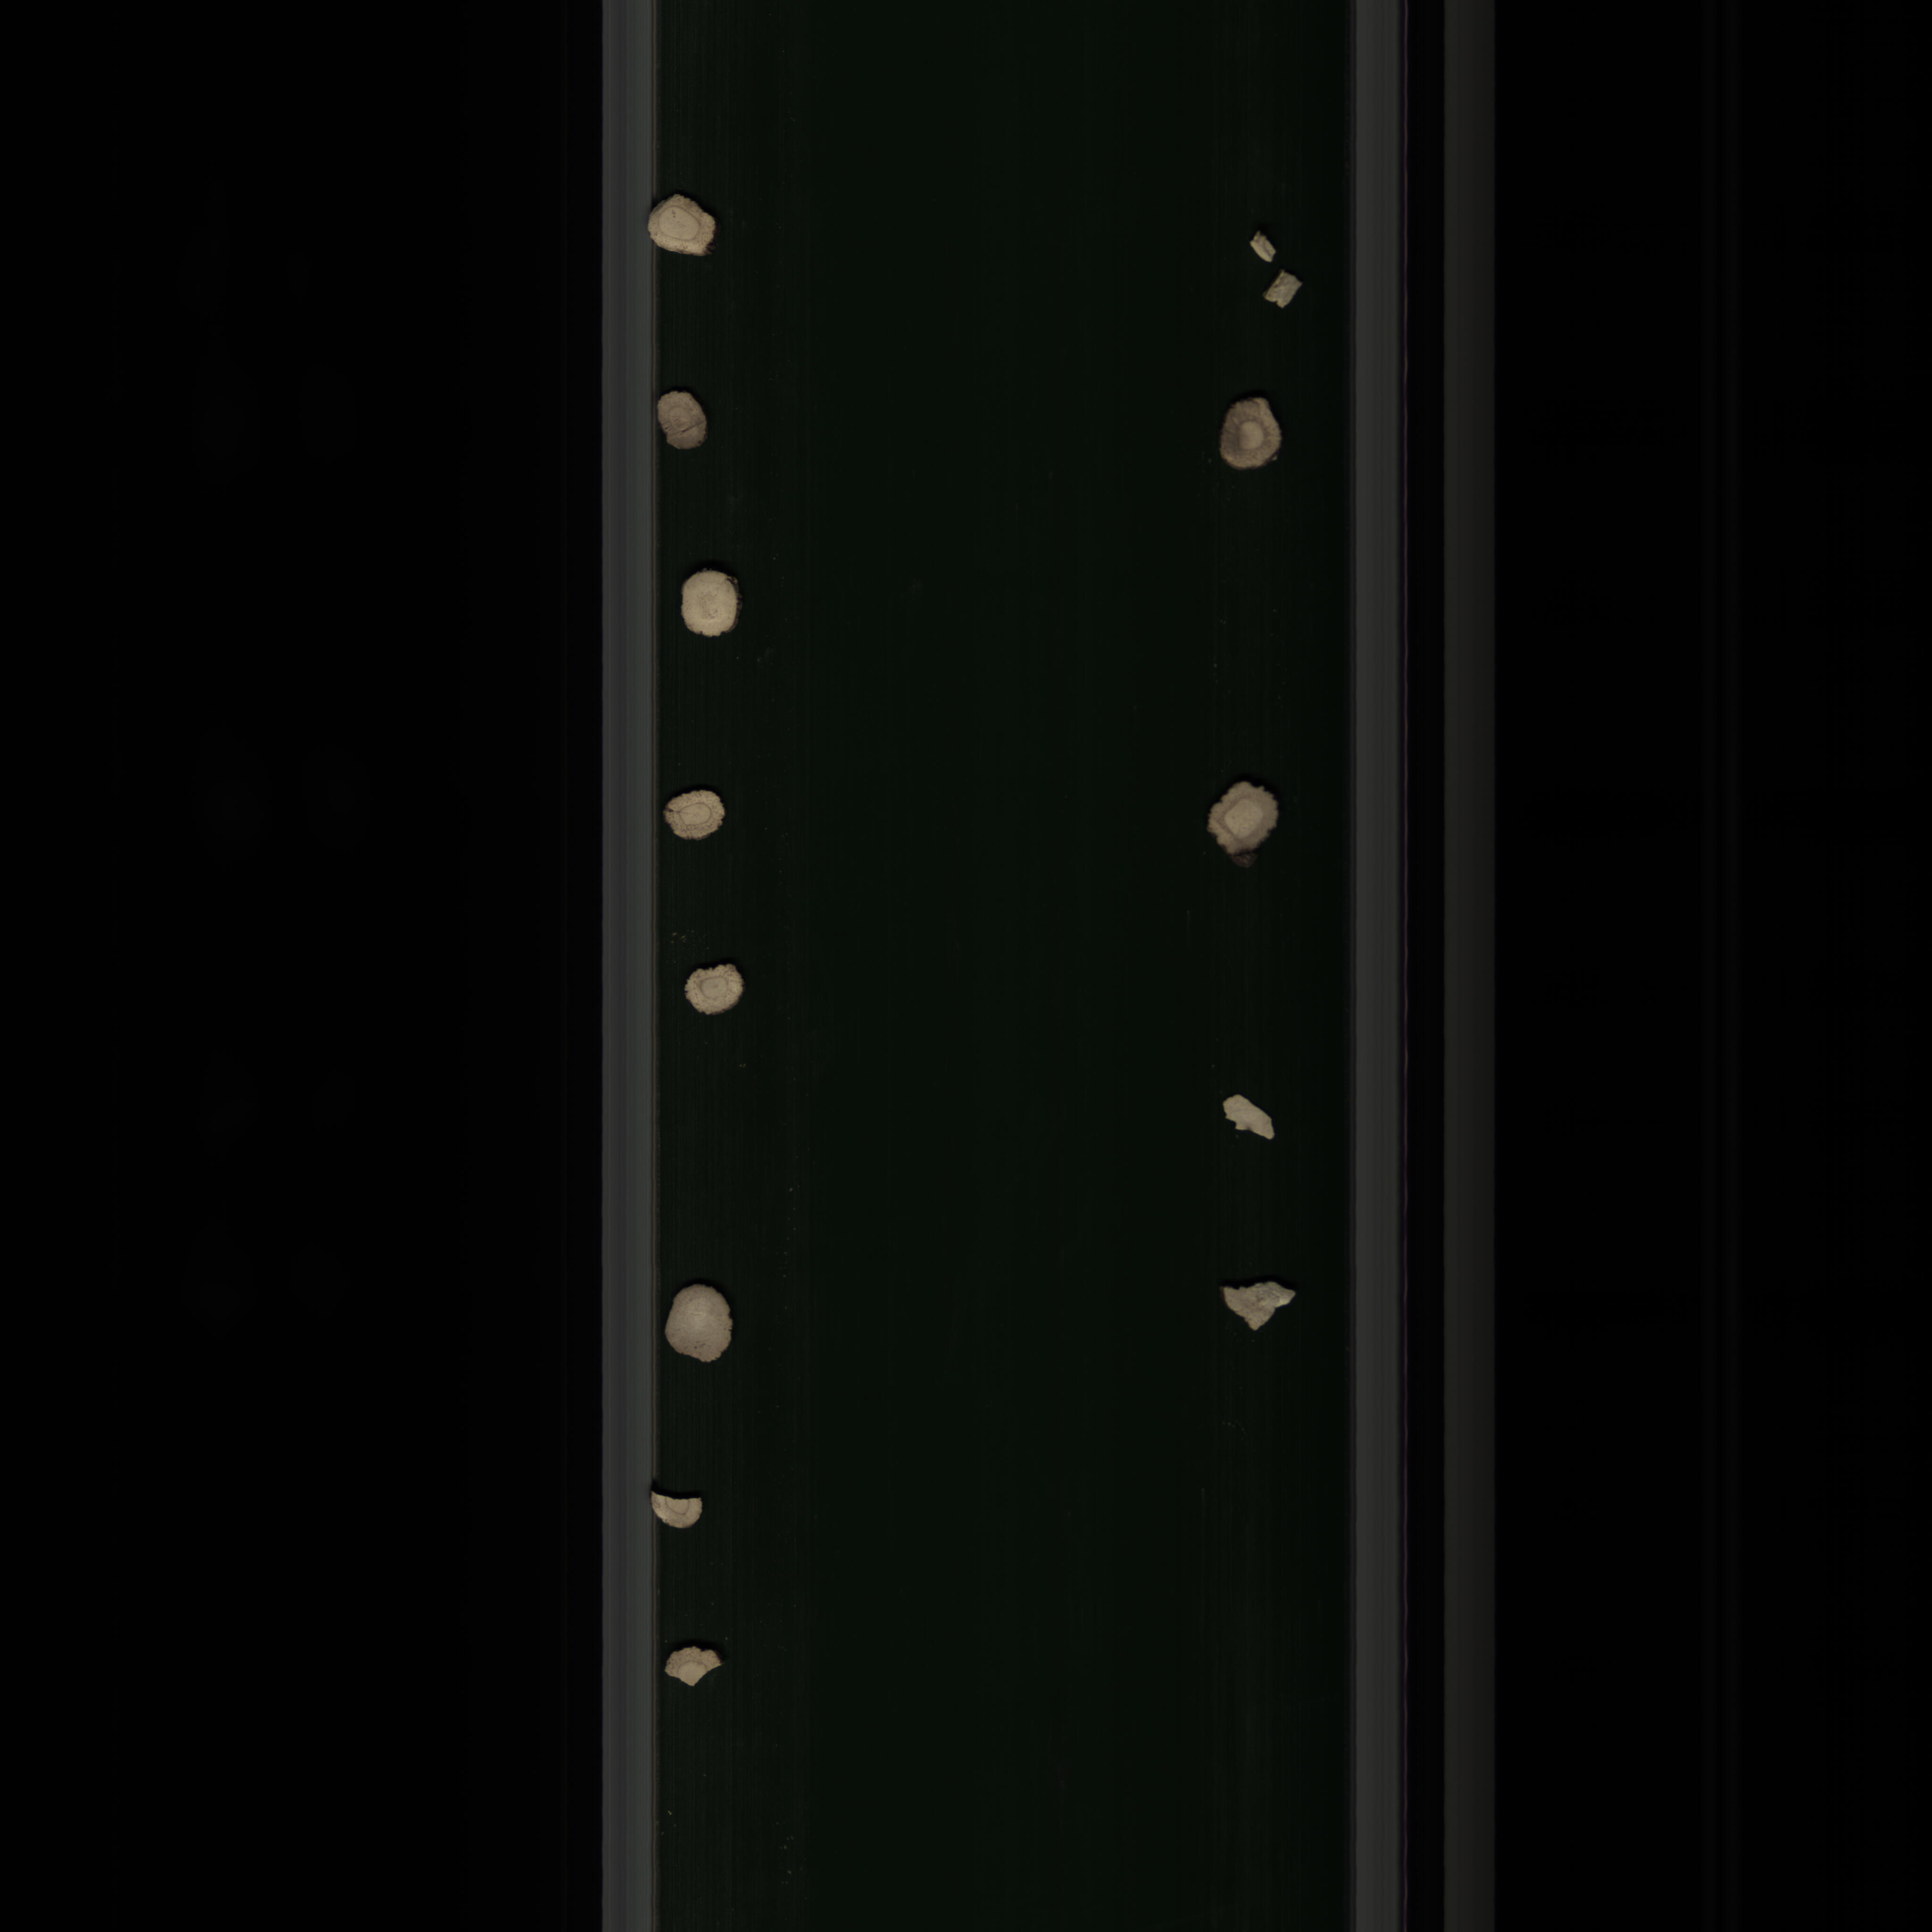debris: (1212, 1276, 1315, 1339), (1221, 1090, 1281, 1155), (644, 1481, 711, 1536), (658, 1645, 724, 1693), (1261, 271, 1315, 320), (1237, 230, 1283, 262)
moldy: (1208, 377, 1293, 479), (649, 389, 715, 455)
